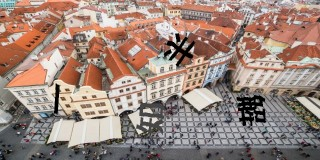一: (52, 82, 61, 117)
半: (164, 34, 196, 66)
知: (135, 103, 166, 136)
解: (235, 94, 267, 128)
